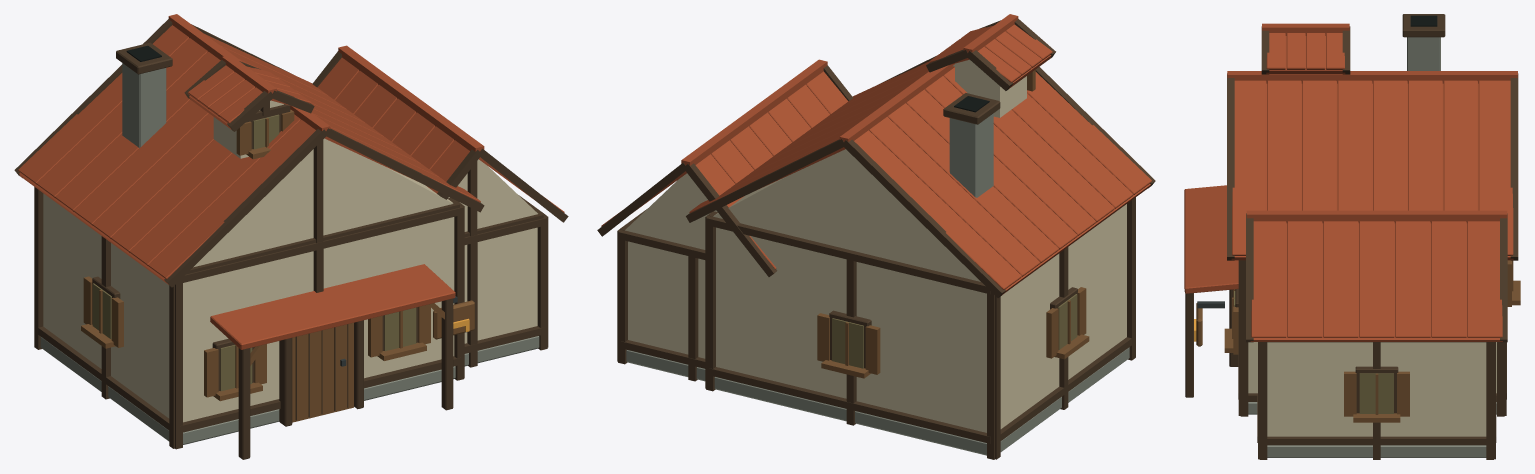
File: inn.glb
The picture shows the model from 3 angles, left to right: view 1: azimuth 30°, elevation 25°; view 2: azimuth 150°, elevation 25°; view 3: azimuth 270°, elevation 25°; orthographic projection. The views are drawn at different scales.
Visible parts, largest first — view 1: inn; view 2: inn; view 3: inn.
Part boxes in pixels (x1,y1,x2,y2): inn: (14,14,568,459); inn: (597,14,1155,459); inn: (1184,14,1520,459).
Size of the model in its own units: 10.52 by 7.93 by 7.86.
